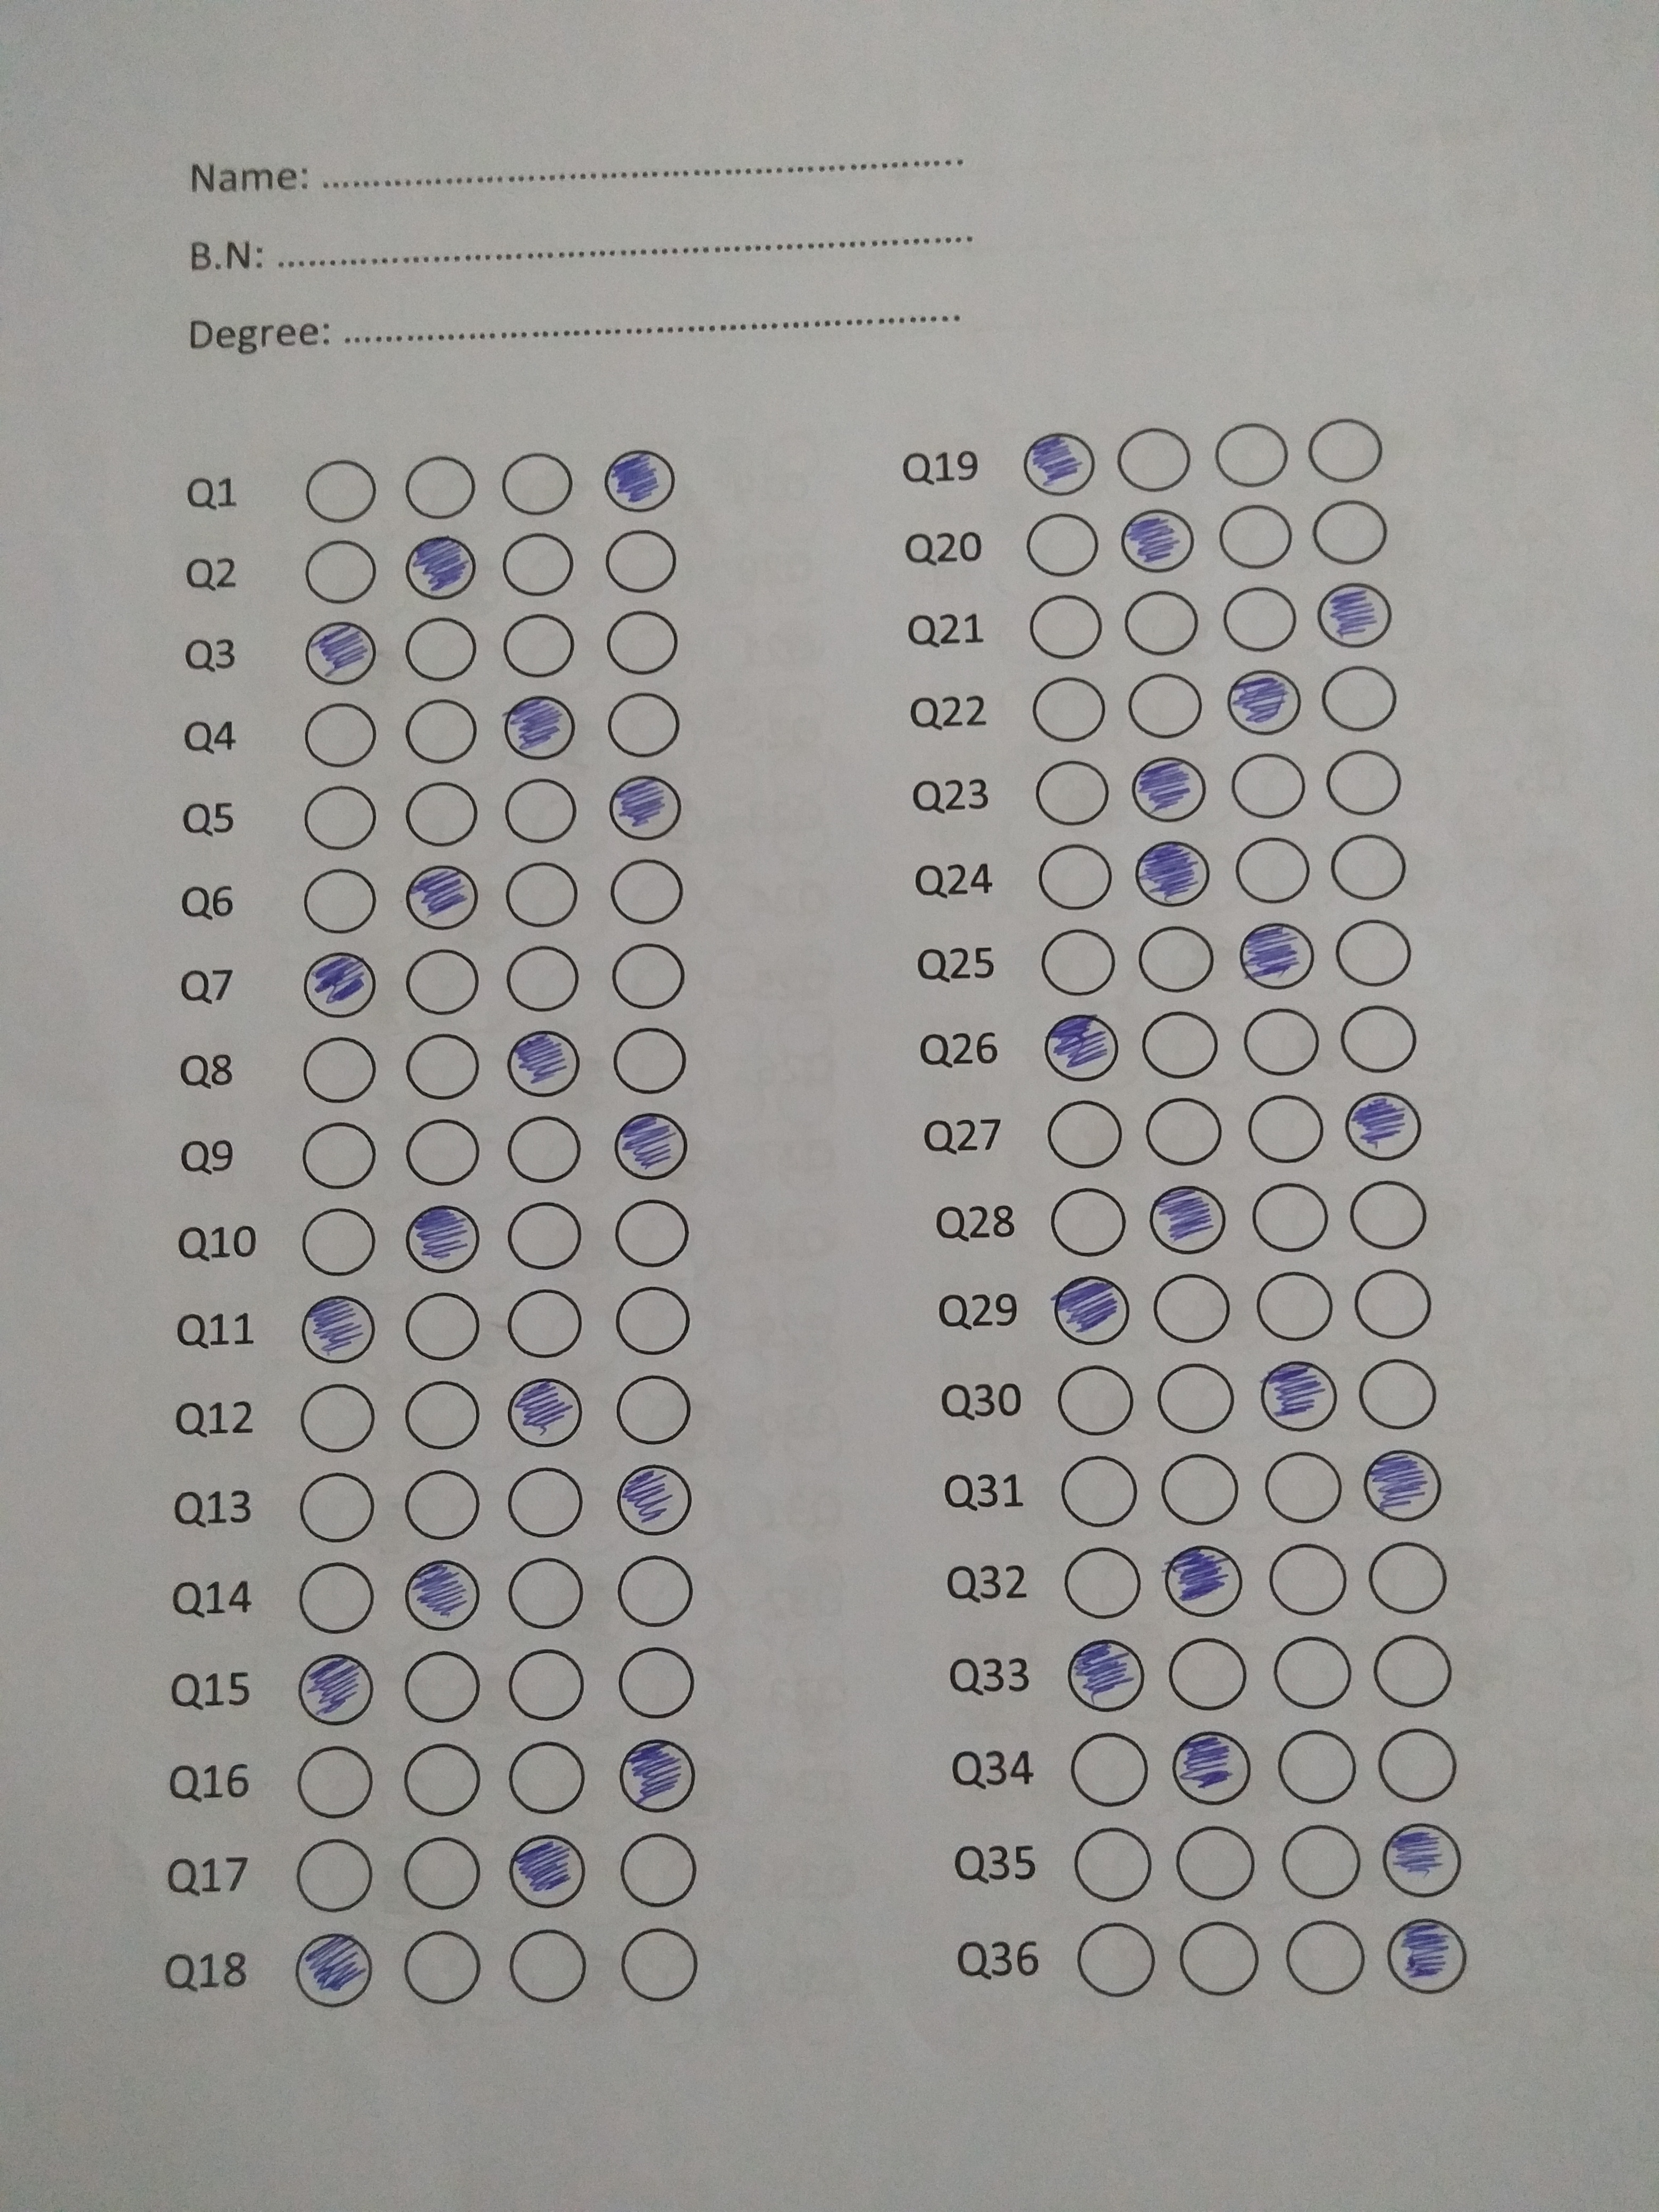not-c: (1047, 1188, 1127, 1261), (1115, 425, 1194, 498), (1046, 1099, 1124, 1172), (1310, 496, 1389, 570), (1040, 927, 1119, 1000), (1324, 745, 1403, 819), (1321, 660, 1399, 733), (1234, 831, 1312, 904), (1230, 749, 1309, 822), (1222, 582, 1300, 655), (1216, 502, 1295, 575), (1124, 585, 1202, 658), (1035, 840, 1114, 913), (1030, 672, 1108, 745), (1026, 590, 1105, 664), (1025, 509, 1103, 582), (1307, 415, 1385, 488), (1161, 1453, 1239, 1526), (1073, 1827, 1152, 1900), (1070, 1733, 1148, 1806), (1063, 1547, 1141, 1620), (1060, 1454, 1138, 1527), (1358, 1357, 1436, 1430), (1058, 1364, 1136, 1437), (1352, 1268, 1431, 1341), (1256, 1268, 1335, 1341), (1152, 1271, 1230, 1345), (1351, 1179, 1429, 1252), (1251, 1179, 1330, 1252), (1248, 1092, 1326, 1165), (1340, 1001, 1419, 1075), (1141, 1007, 1220, 1080), (1138, 921, 1216, 995), (1377, 1728, 1455, 1801), (1373, 1634, 1452, 1707), (1370, 1541, 1448, 1615), (1288, 1919, 1366, 1993), (1283, 1825, 1361, 1898), (1277, 1730, 1356, 1803), (1274, 1634, 1352, 1707), (1265, 1453, 1344, 1526), (1077, 1923, 1155, 1996), (1176, 1827, 1255, 1900), (1169, 1637, 1248, 1710), (1155, 1362, 1236, 1433), (1178, 1923, 1258, 1994), (498, 528, 575, 601), (505, 1111, 582, 1184), (296, 1838, 373, 1911), (1330, 831, 1408, 902), (1126, 672, 1204, 744), (1033, 756, 1112, 827), (1213, 420, 1291, 491), (1143, 1096, 1222, 1167), (1243, 1007, 1321, 1078), (1333, 918, 1412, 989), (1270, 1543, 1349, 1615), (303, 866, 378, 939), (303, 698, 378, 772), (605, 524, 680, 597), (300, 1207, 375, 1280), (406, 1115, 481, 1188), (612, 1024, 687, 1097), (406, 1836, 481, 1909), (619, 1646, 694, 1719), (509, 1467, 584, 1540), (403, 697, 479, 768), (500, 451, 577, 523), (507, 1285, 584, 1357), (613, 1198, 690, 1270), (505, 1200, 582, 1271), (300, 1120, 376, 1191), (404, 1031, 481, 1103), (504, 941, 580, 1012), (617, 1555, 694, 1627), (507, 1557, 584, 1629), (619, 1834, 695, 1905), (303, 455, 378, 526), (622, 1930, 697, 2001), (502, 775, 577, 846), (404, 779, 479, 850), (301, 782, 376, 853), (606, 688, 681, 759), (605, 608, 680, 679), (500, 611, 575, 683), (404, 617, 479, 688), (305, 533, 380, 604), (403, 451, 477, 523), (617, 1374, 692, 1446), (406, 1381, 481, 1453), (301, 1381, 376, 1453), (615, 1285, 690, 1357), (406, 1292, 481, 1364), (303, 1035, 378, 1106), (612, 942, 687, 1014), (406, 944, 481, 1015), (612, 857, 687, 928), (505, 860, 580, 932), (509, 1742, 584, 1813), (404, 1743, 479, 1815), (298, 1747, 373, 1818), (509, 1648, 584, 1719), (404, 1651, 479, 1723), (298, 1562, 373, 1634), (406, 1468, 481, 1540), (300, 1470, 375, 1541), (404, 1932, 479, 2003), (511, 1928, 586, 2000)
taken-c: (1382, 1918, 1473, 1996), (1380, 1822, 1467, 1902), (1159, 1541, 1244, 1622), (1168, 1728, 1253, 1806), (1361, 1446, 1446, 1524), (1258, 1357, 1342, 1435), (289, 1932, 375, 2006), (1066, 1637, 1147, 1716), (1342, 1089, 1424, 1165), (509, 1832, 591, 1909), (1051, 1270, 1133, 1346), (298, 1651, 378, 1728), (1148, 1183, 1230, 1258), (1133, 838, 1216, 911), (1239, 918, 1317, 993), (404, 1202, 483, 1277), (615, 1463, 694, 1538), (619, 1738, 697, 1813), (606, 772, 687, 845), (1040, 1014, 1121, 1087), (1114, 503, 1195, 575), (298, 1292, 375, 1367), (613, 1109, 692, 1183), (403, 1557, 481, 1630), (1129, 754, 1209, 826), (301, 949, 380, 1021), (1021, 428, 1101, 498), (404, 862, 481, 934), (507, 1379, 584, 1451), (505, 1029, 584, 1099), (599, 446, 680, 514), (303, 620, 380, 688), (1314, 583, 1394, 648), (403, 535, 477, 603), (1227, 669, 1302, 737), (502, 697, 579, 761)
